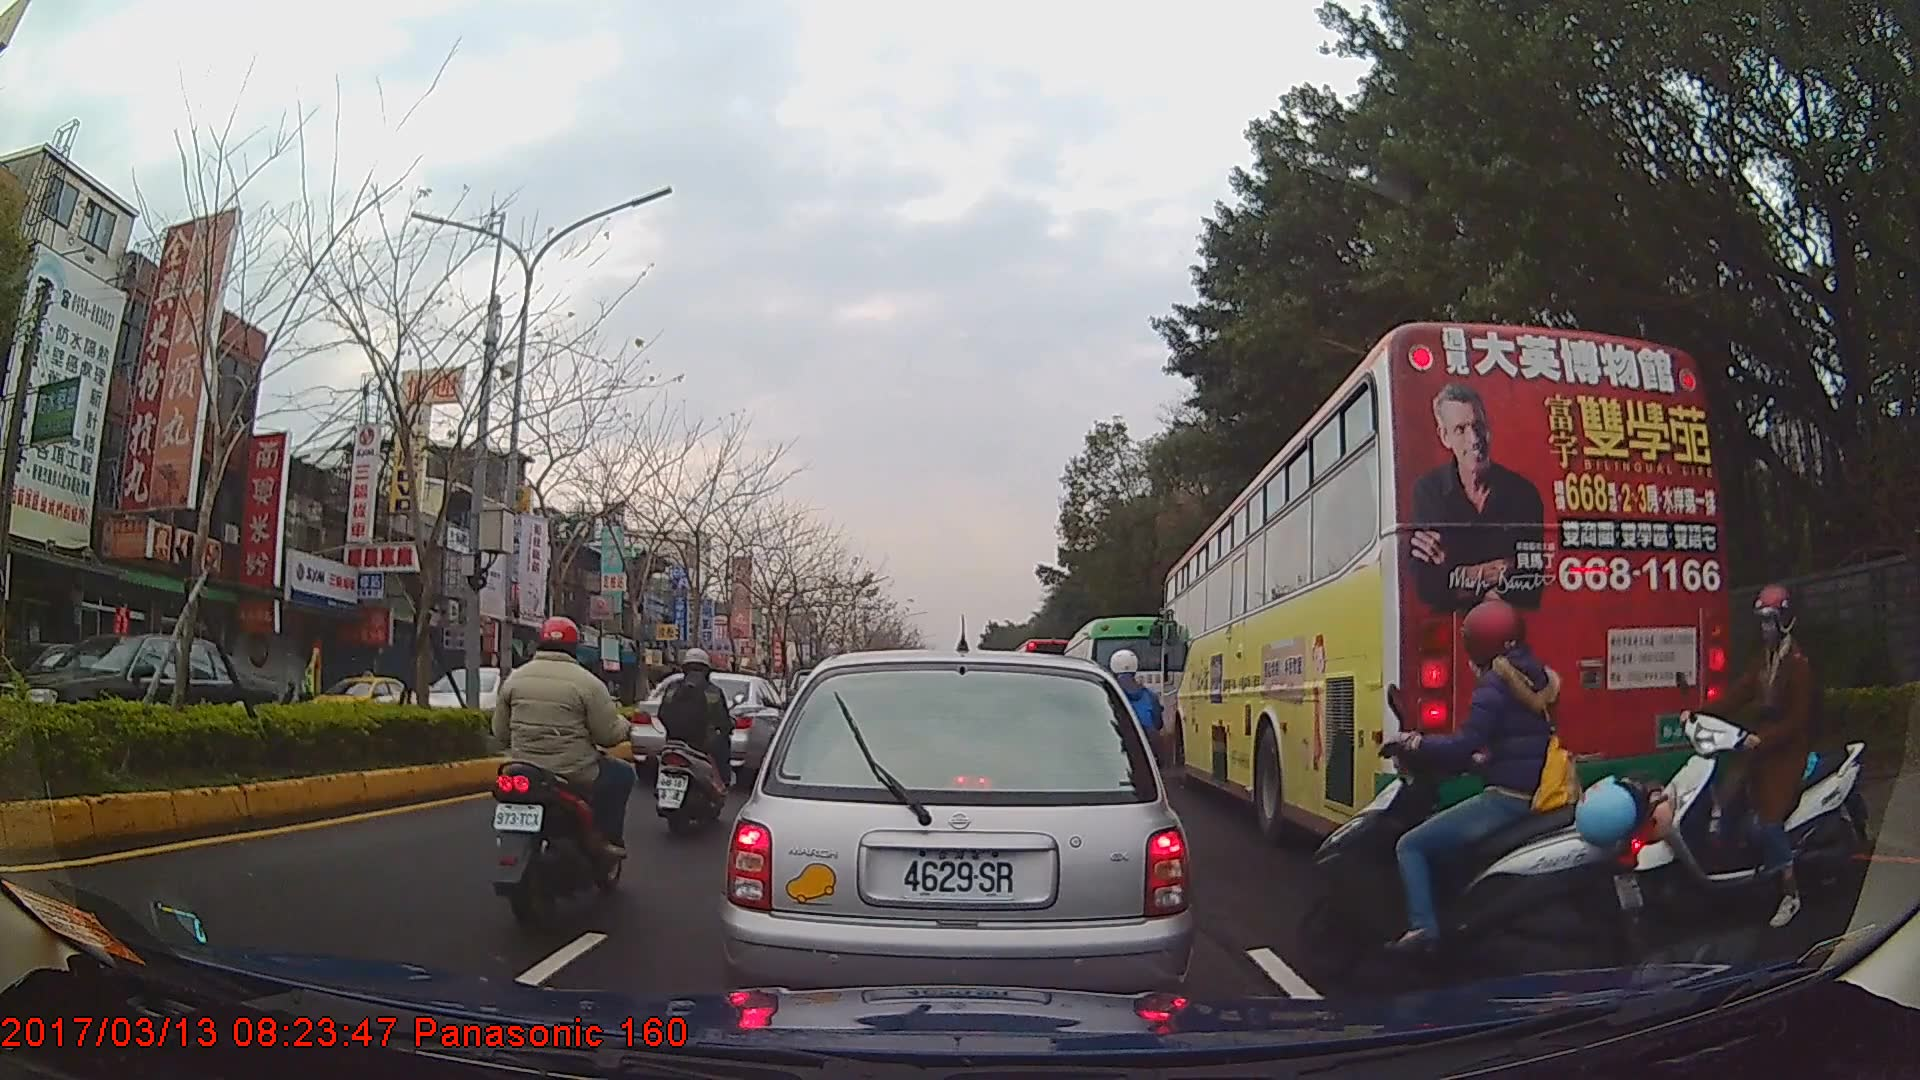rider: (1304, 599, 1668, 1002), (1642, 584, 1861, 935), (488, 610, 628, 941), (655, 645, 737, 828)
vehicle: (1160, 319, 1727, 849), (724, 648, 1187, 1018), (8, 630, 276, 756), (5, 636, 234, 723), (1057, 615, 1185, 766), (629, 670, 791, 784), (388, 656, 541, 735), (303, 670, 424, 731)
